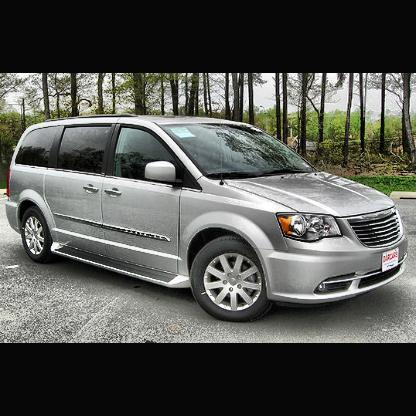Chrysler Town and Country Minivan 2012: (7, 118, 408, 322)
